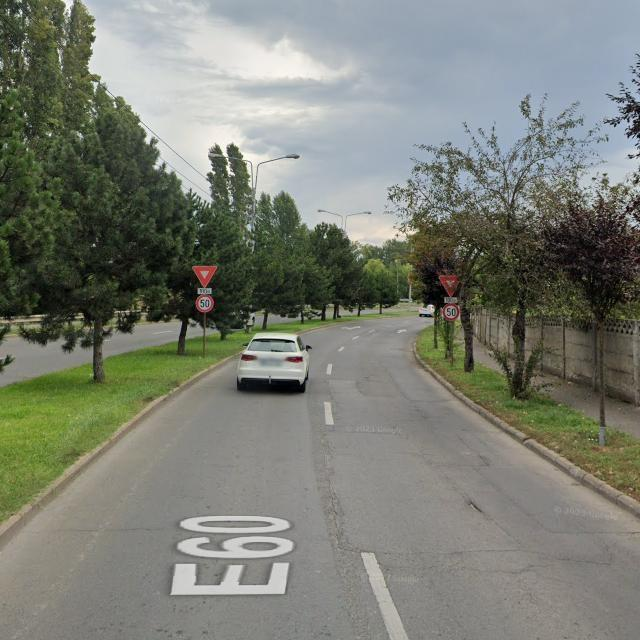forb_speed_over_50: (196, 294, 215, 313), (442, 303, 460, 321)
prio_give_way: (192, 266, 218, 289), (438, 275, 460, 297)
